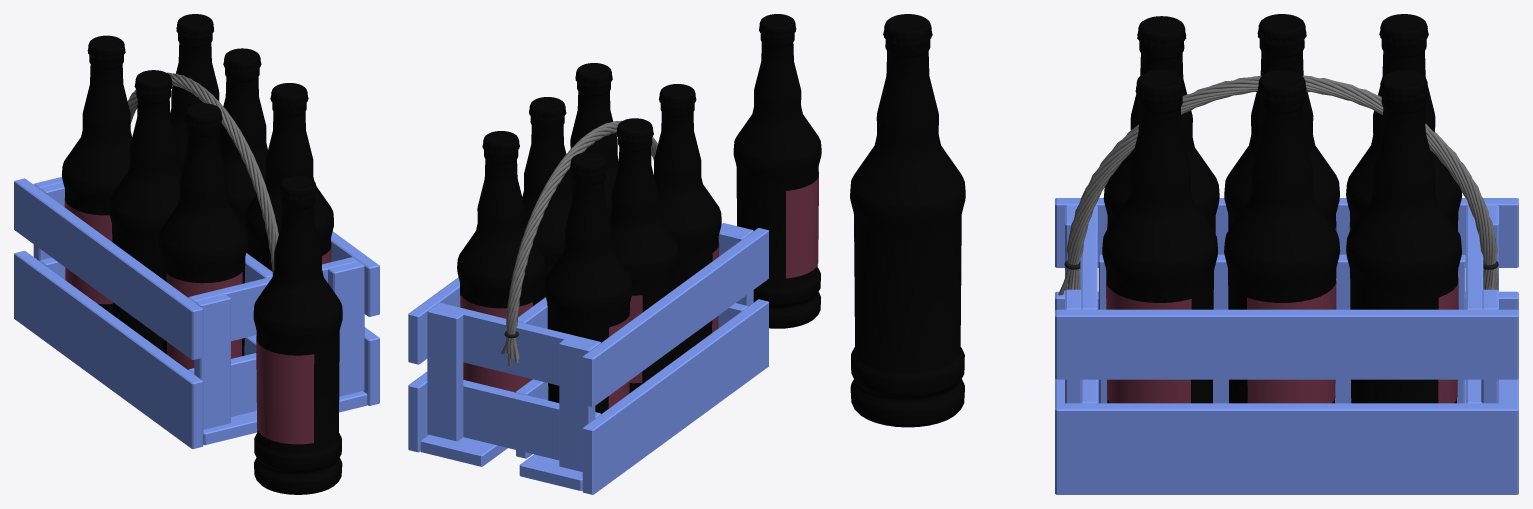
3 views of the same model, side by side, from view 1: azimuth 30°, elevation 25°; view 2: azimuth 150°, elevation 25°; view 3: azimuth 270°, elevation 25° (orthographic). The views are drawn at different scales.
Parts seen in each view (by area): view 1: Box042, Line039, Line052, Line047, Line048, Line051, Line050, Line049, Cylinder096; view 2: Box042, Line039, Line048, Line049, Line047, Line052, Line050, Line051, Cylinder096; view 3: Box042, Line039, Line049, Line050, Line051, Cylinder096, Line047, Line048, Line052.
Boxes of the visible parts, bbox=[...] form: Box042: bbox=[14, 177, 379, 448]; Line039: bbox=[253, 176, 342, 494]; Line052: bbox=[158, 103, 248, 369]; Line047: bbox=[109, 70, 180, 350]; Line048: bbox=[62, 35, 132, 314]; Line051: bbox=[245, 83, 333, 271]; Line050: bbox=[219, 48, 267, 253]; Line049: bbox=[170, 14, 219, 173]; Cylinder096: bbox=[127, 72, 278, 275]; Box042: bbox=[408, 223, 768, 494]; Line039: bbox=[733, 14, 821, 328]; Line048: bbox=[544, 152, 632, 413]; Line049: bbox=[457, 131, 545, 392]; Line047: bbox=[609, 118, 679, 392]; Line052: bbox=[654, 84, 721, 359]; Line050: bbox=[522, 97, 572, 298]; Line051: bbox=[570, 63, 618, 217]; Cylinder096: bbox=[501, 120, 657, 366]; Box042: bbox=[1055, 198, 1518, 494]; Line039: bbox=[850, 14, 965, 427]; Line049: bbox=[1346, 70, 1461, 403]; Line050: bbox=[1224, 70, 1340, 403]; Line051: bbox=[1102, 70, 1217, 403]; Cylinder096: bbox=[1058, 75, 1498, 295]; Line047: bbox=[1224, 14, 1339, 231]; Line048: bbox=[1346, 14, 1462, 230]; Line052: bbox=[1103, 16, 1219, 233].
Bounding box in the file's own units: 51.08 × 77.04 × 121.
